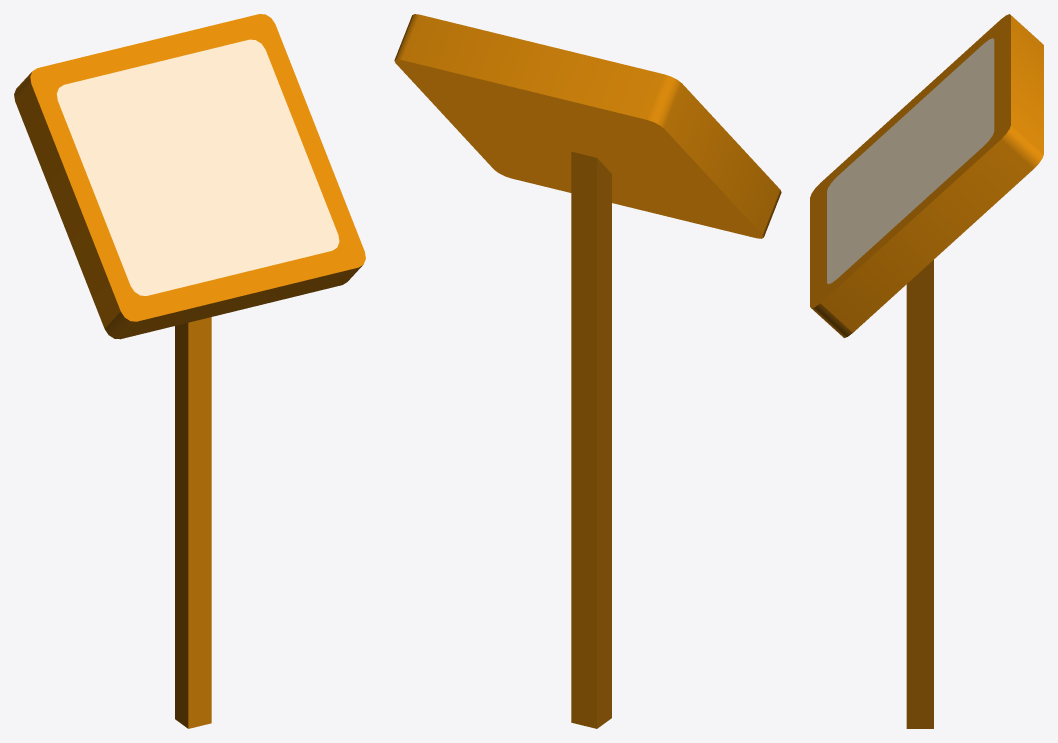
The model's file is StandSign.fbx.
3 renders of one model, left to right at view 1: azimuth 30°, elevation 25°; view 2: azimuth 150°, elevation 25°; view 3: azimuth 270°, elevation 25°, orthographic. The views are drawn at different scales.
Parts seen in each view (by area): view 1: 立方体.008; view 2: 立方体.008; view 3: 立方体.008.
Boxes of the visible parts, x1=… form: 立方体.008: x1=14, y1=14, x2=365, y2=728; 立方体.008: x1=394, y1=14, x2=781, y2=728; 立方体.008: x1=810, y1=14, x2=1043, y2=728.
Size of the model in its own units: 64.5 by 163 by 53.01.
